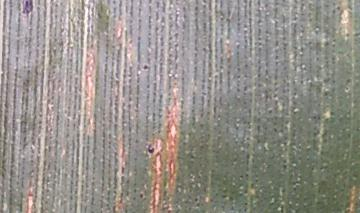tarspot: (145, 143, 156, 157), (139, 62, 152, 73)
